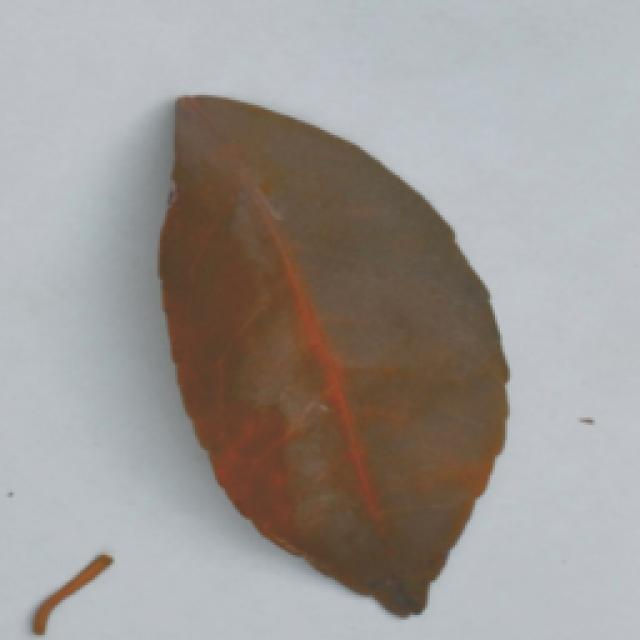greening: (144, 79, 519, 616)
